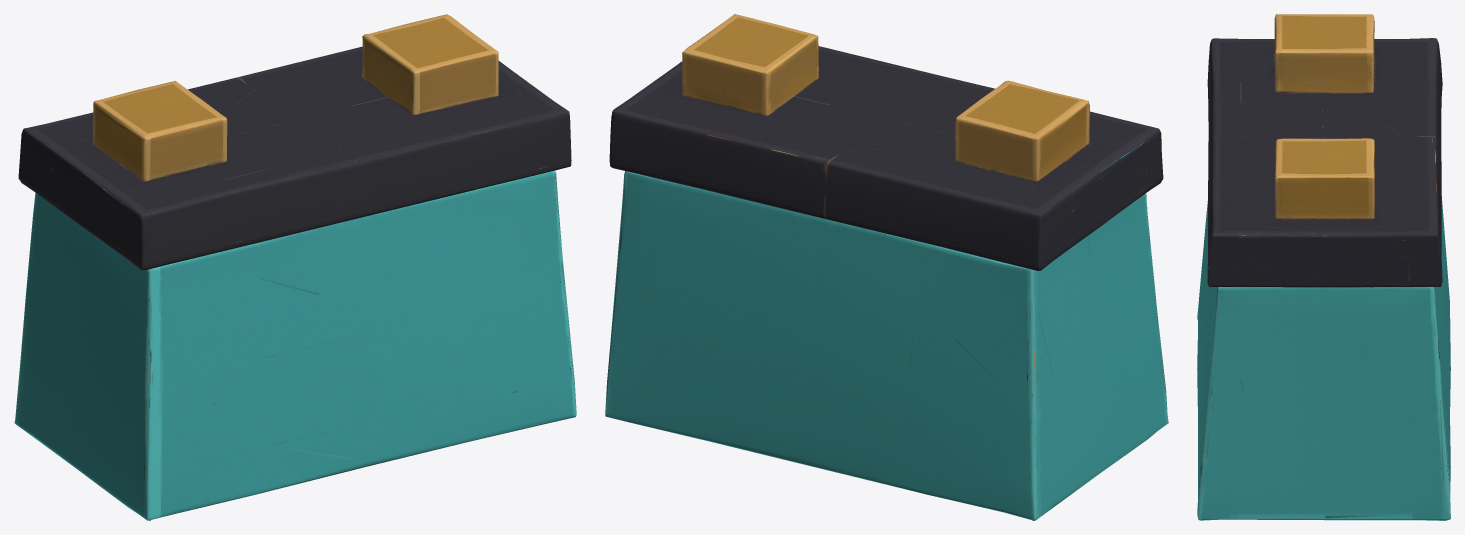
File: batteryBank.glb
3 renders of one model, left to right at view 1: azimuth 30°, elevation 25°; view 2: azimuth 150°, elevation 25°; view 3: azimuth 270°, elevation 25°, orthographic. The views are drawn at different scales.
Bounding box in the file's own units: 1 × 0.7715 × 0.541.
1 material, 1 textured.
